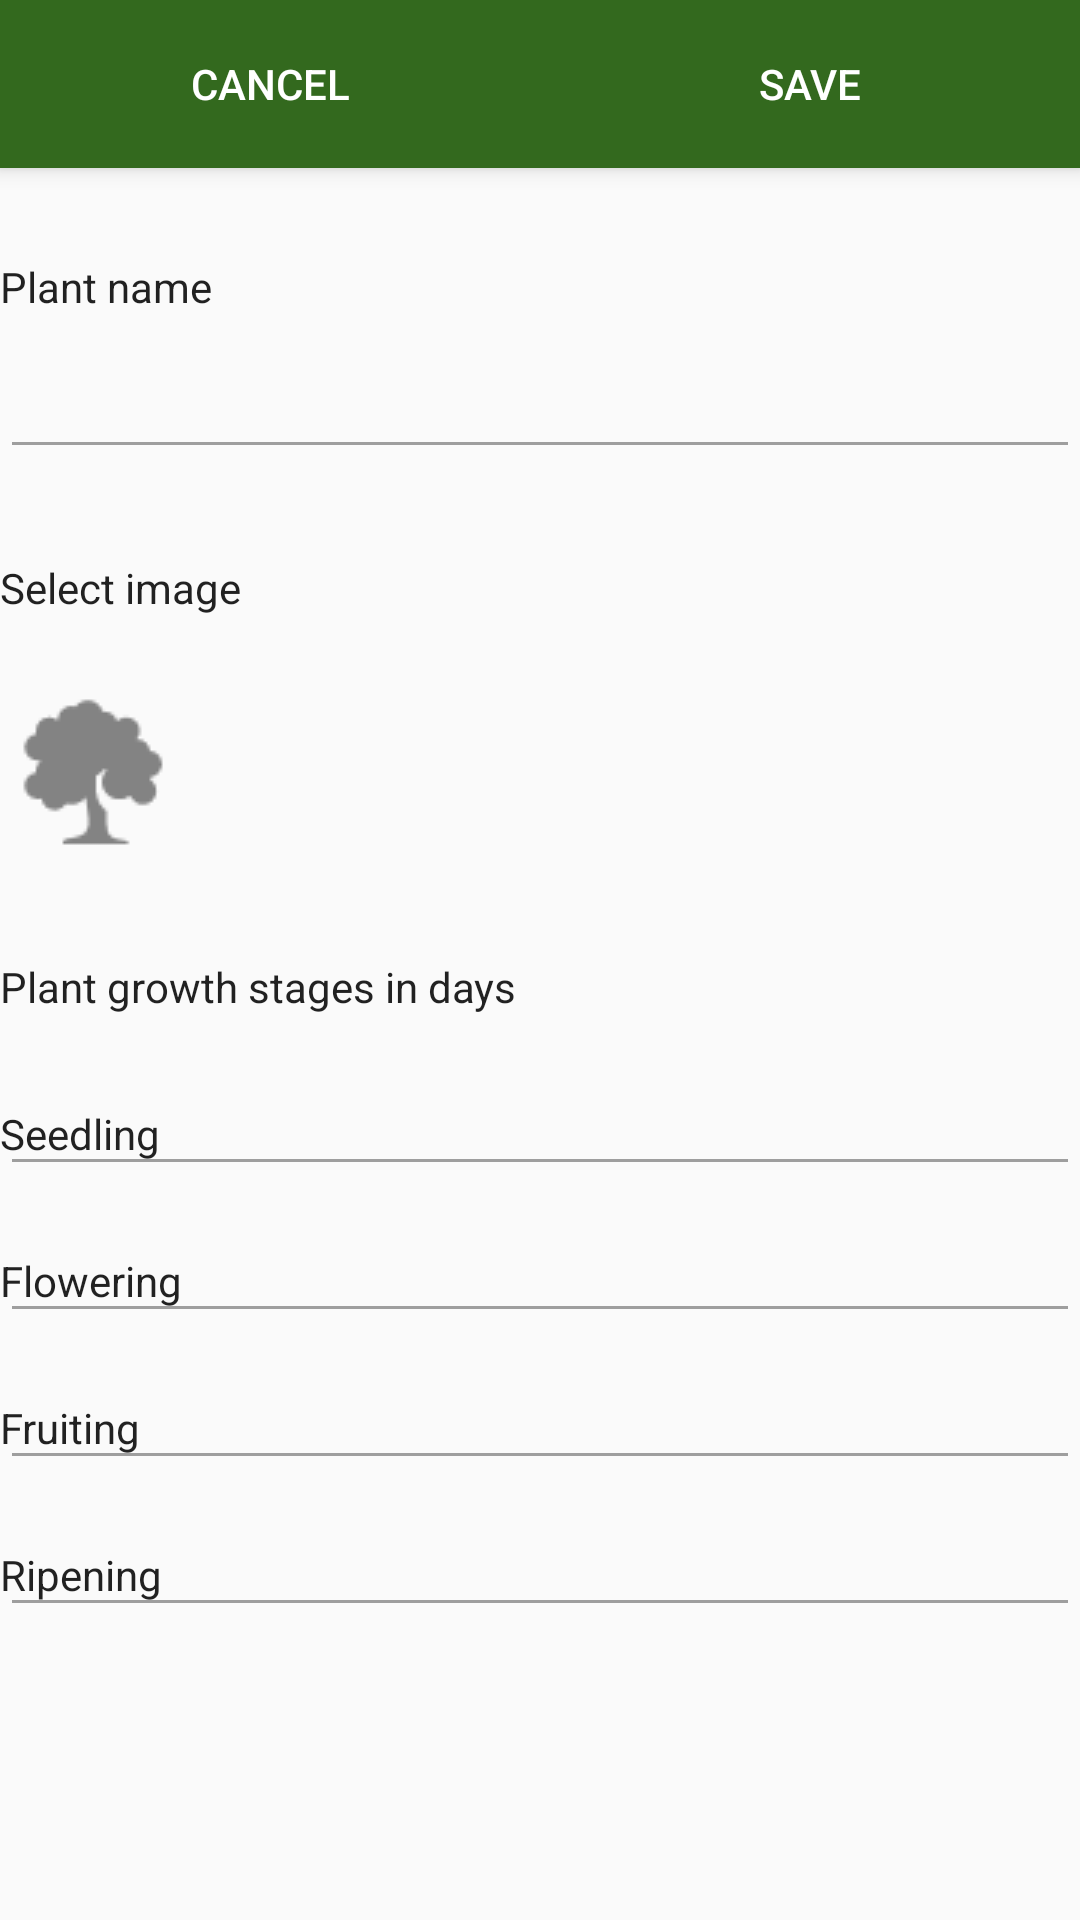

Screen size 1080 × 1920. Icon name, then its box in pixels as [x1,y1,x2,y2]:
add plant: [23,699,163,845]
